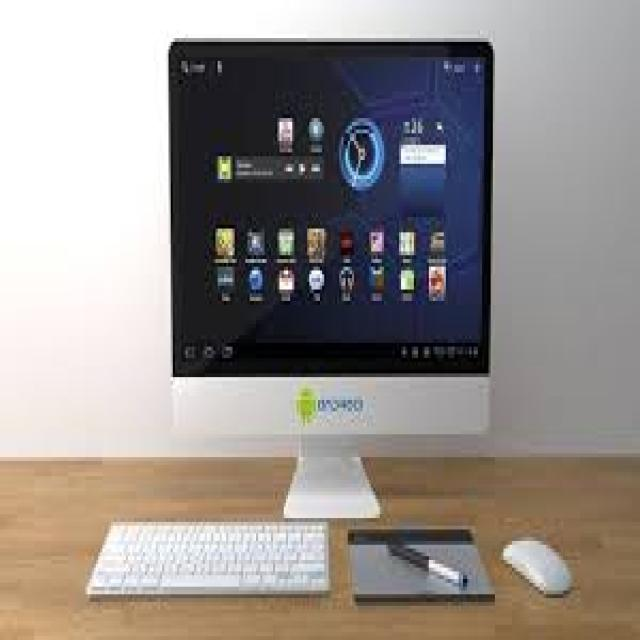komputer: (169, 42, 495, 524)
